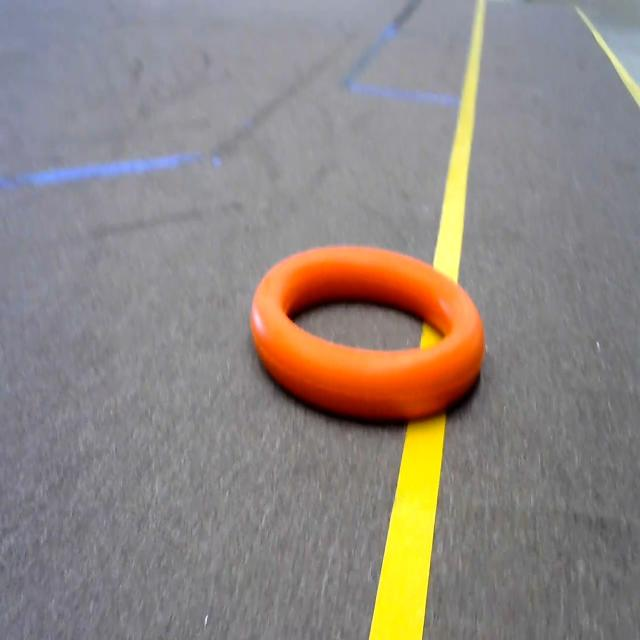note: (239, 217, 503, 458)
